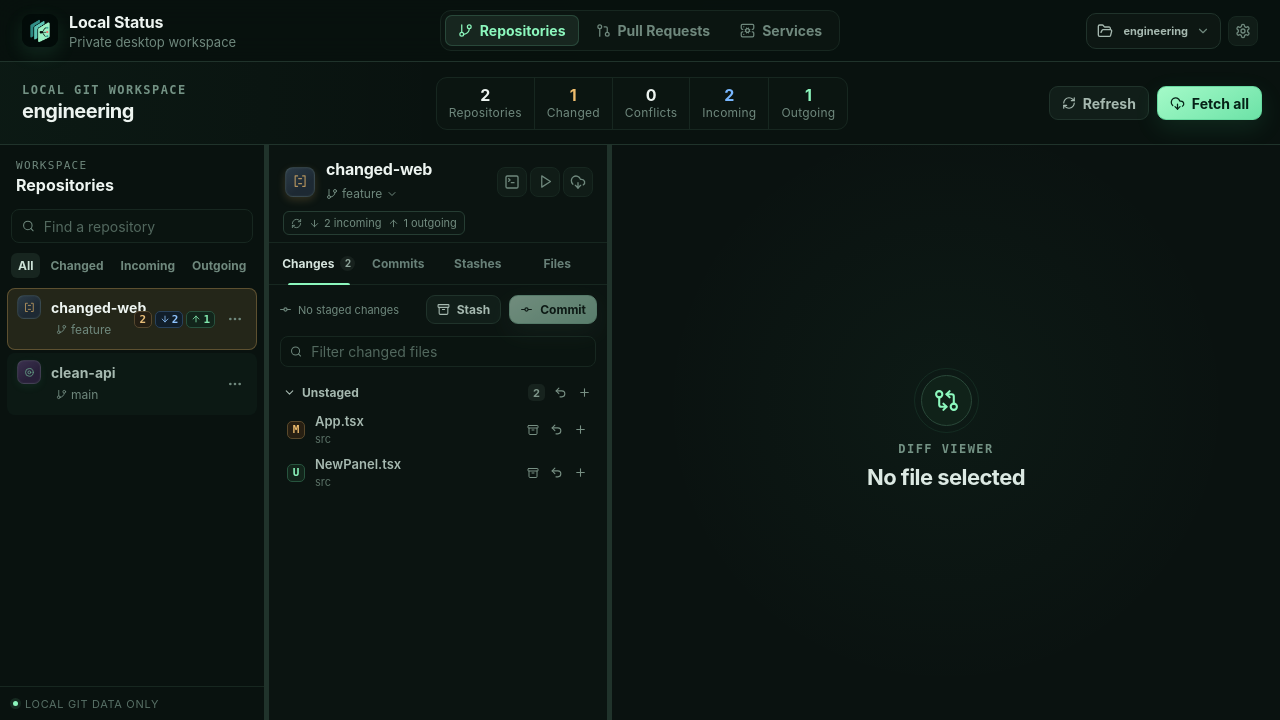
Local Status › keeps repository selection, branch switching, and actions as stable targets
The width and height of the screenshot is (1280, 720).
Expected: the button named "More actions for changed-web" is shown, [221,305,249,333]
Click the button named "Clean working tree clean-api". click: [132, 384]
box: [7,353,257,415]
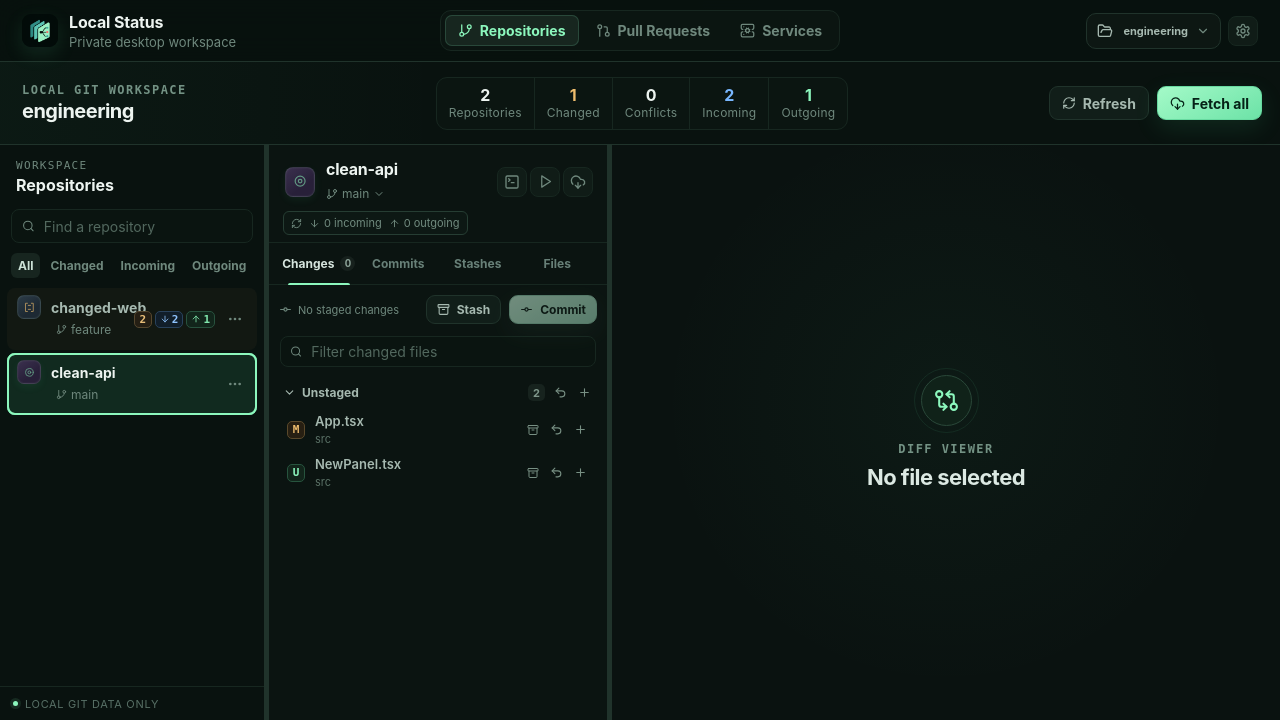
Result: the button named "Clean working tree clean-api" is marked as current at [7,353,257,415]
Click the button named "More actions for changed-web". click: [235, 319]
box: [221,305,249,333]
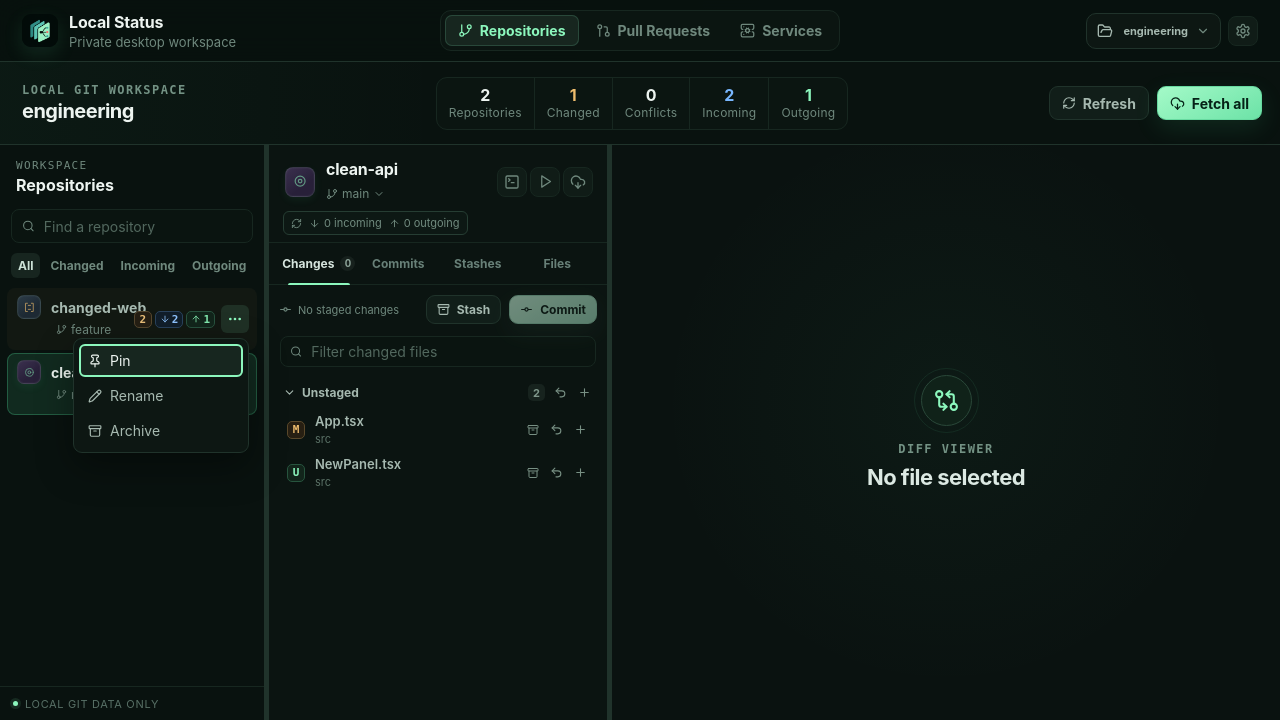
Result: the button named "Clean working tree clean-api" is marked as current at [7,353,257,415]
Result: the button named "Uncommitted changes changed-web" does not have attribute aria-current at [7,288,257,350]
Press Escape
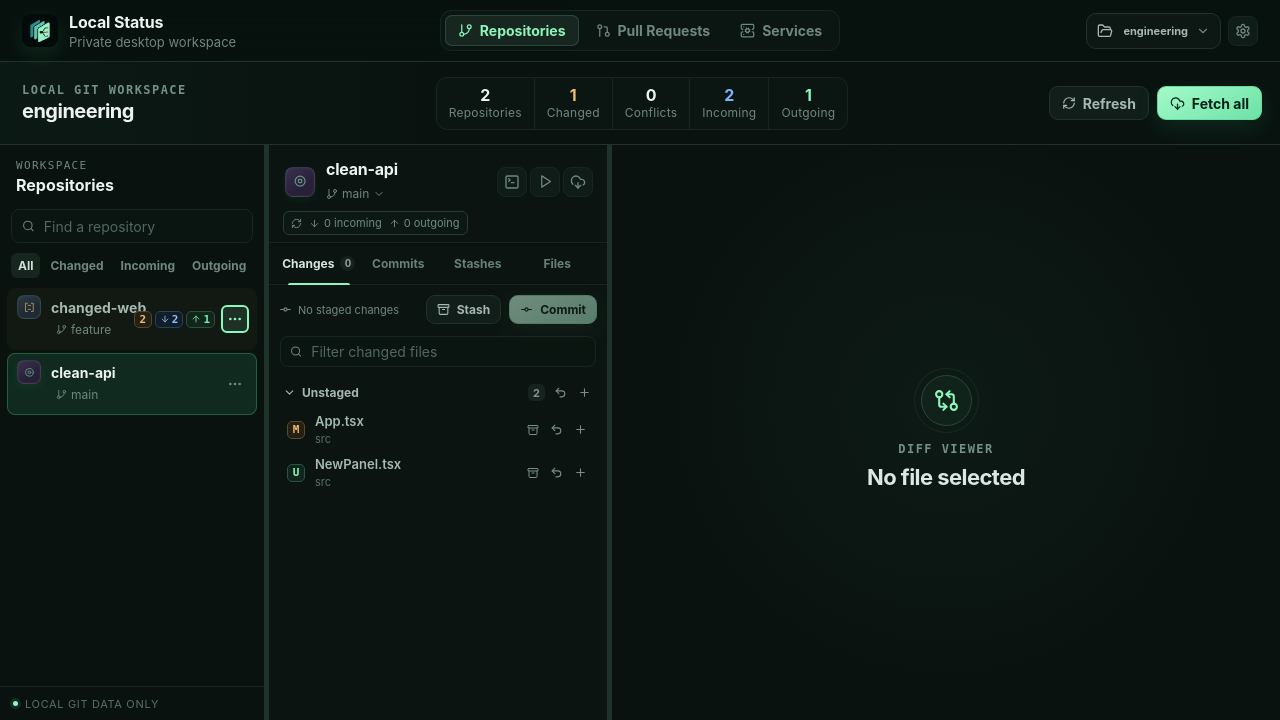
Click the button with aria-label "Switch branch for changed-web". click: [84, 329]
box: [51,320,116,339]
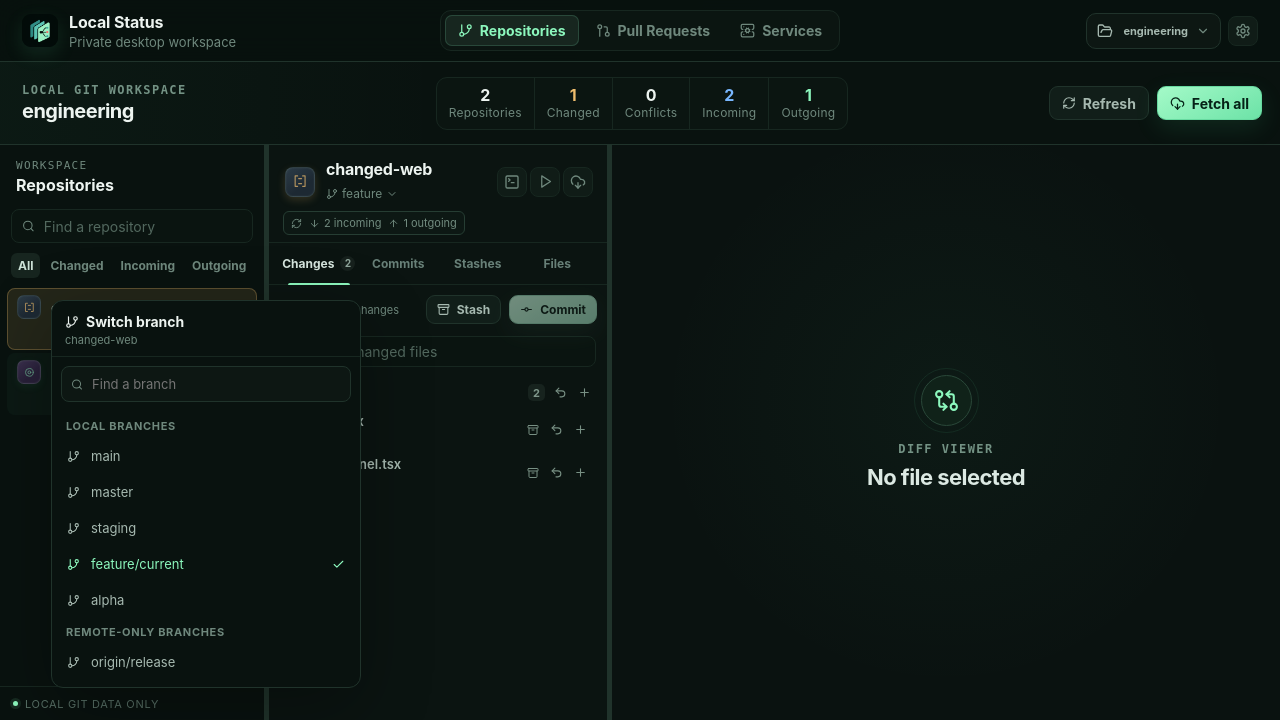
Result: the dialog named "Switch branch for changed-web" is shown at [51,300,361,688]
